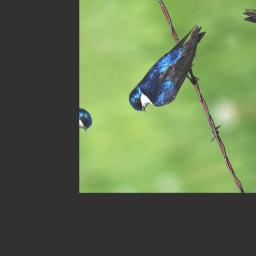Swallow: (107, 23, 230, 117)
